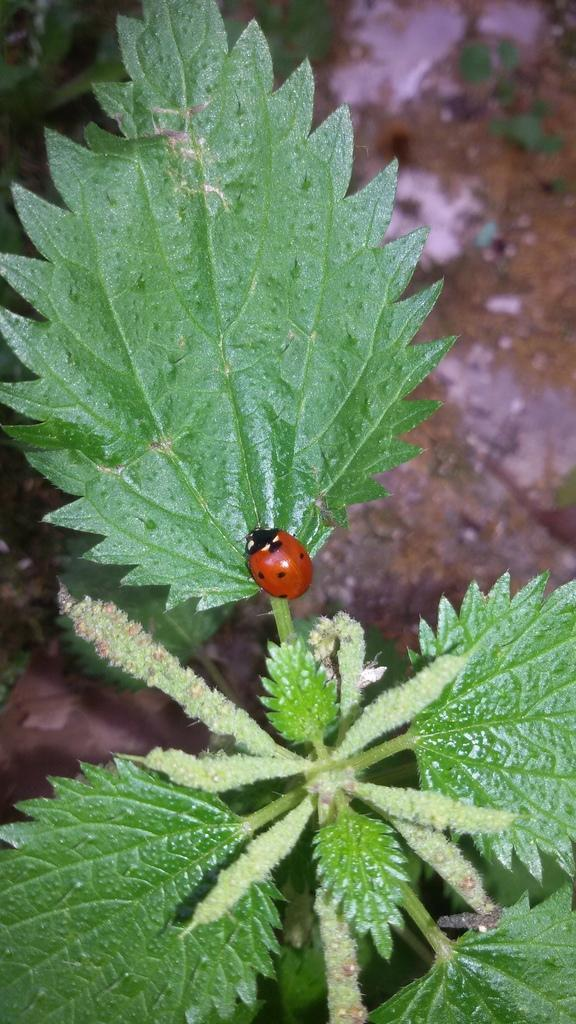ladybug: (235, 525, 317, 602)
